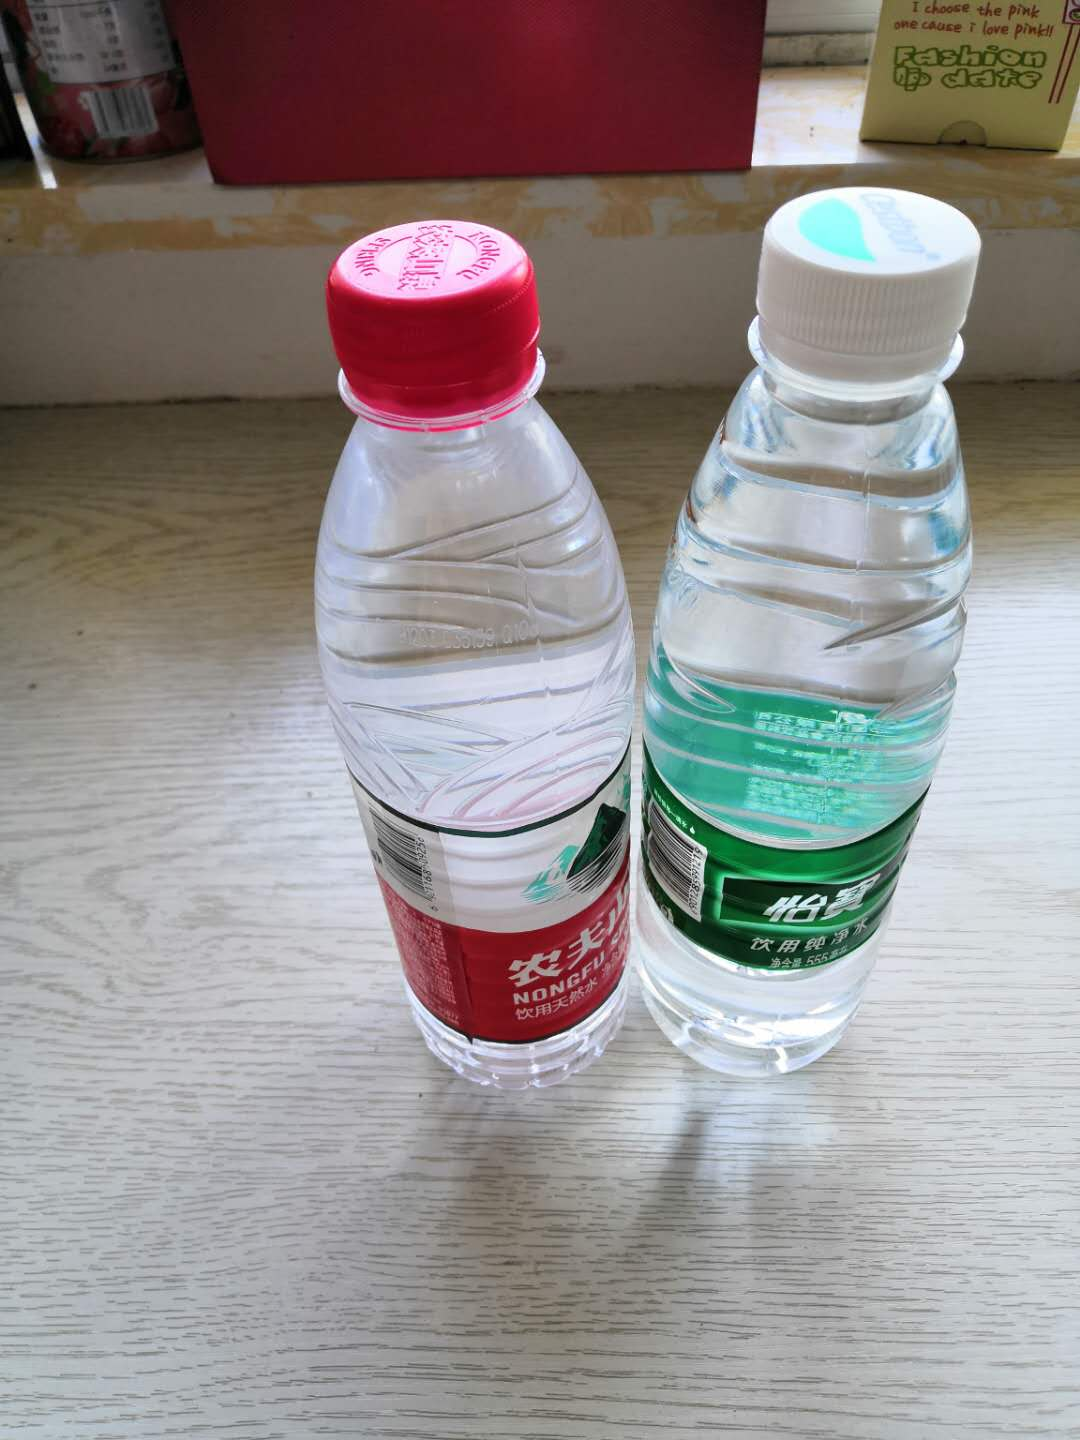农夫山泉: (299, 203, 659, 1117)
怡宝: (634, 170, 999, 1098)
